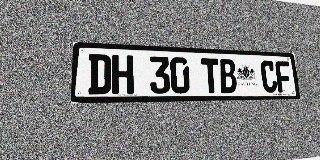0: (170, 57, 190, 94)
3: (150, 56, 170, 94)
B: (219, 59, 237, 93)
C: (260, 60, 278, 93)
D: (88, 54, 111, 94)
F: (275, 61, 292, 92)
H: (112, 55, 134, 94)
T: (201, 58, 220, 93)
